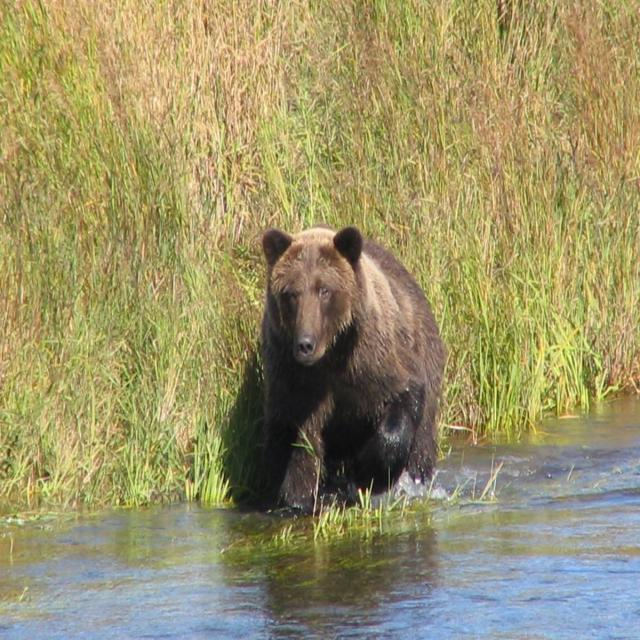bear face: (266, 228, 443, 500)
